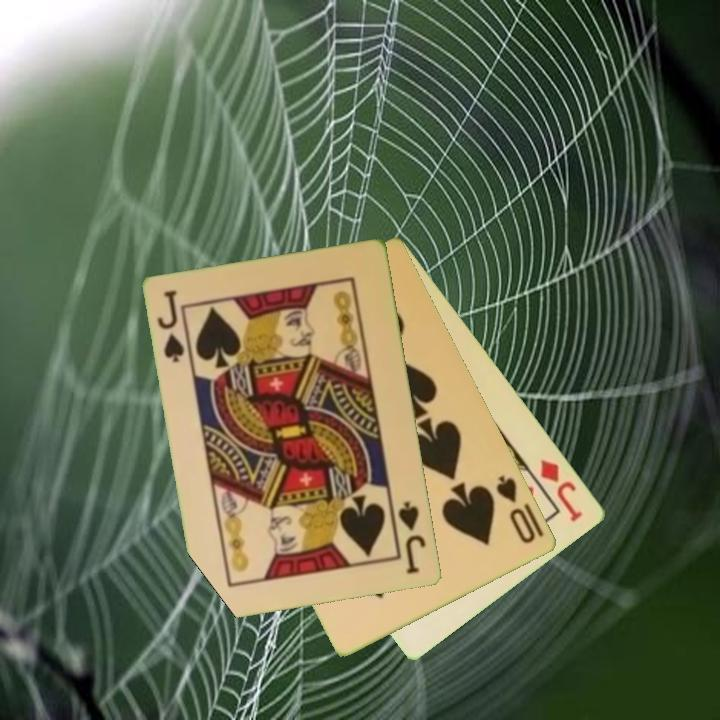10s: (493, 472, 539, 547)
Jd: (537, 455, 586, 525)
Js: (395, 498, 429, 577), (154, 287, 188, 366)
